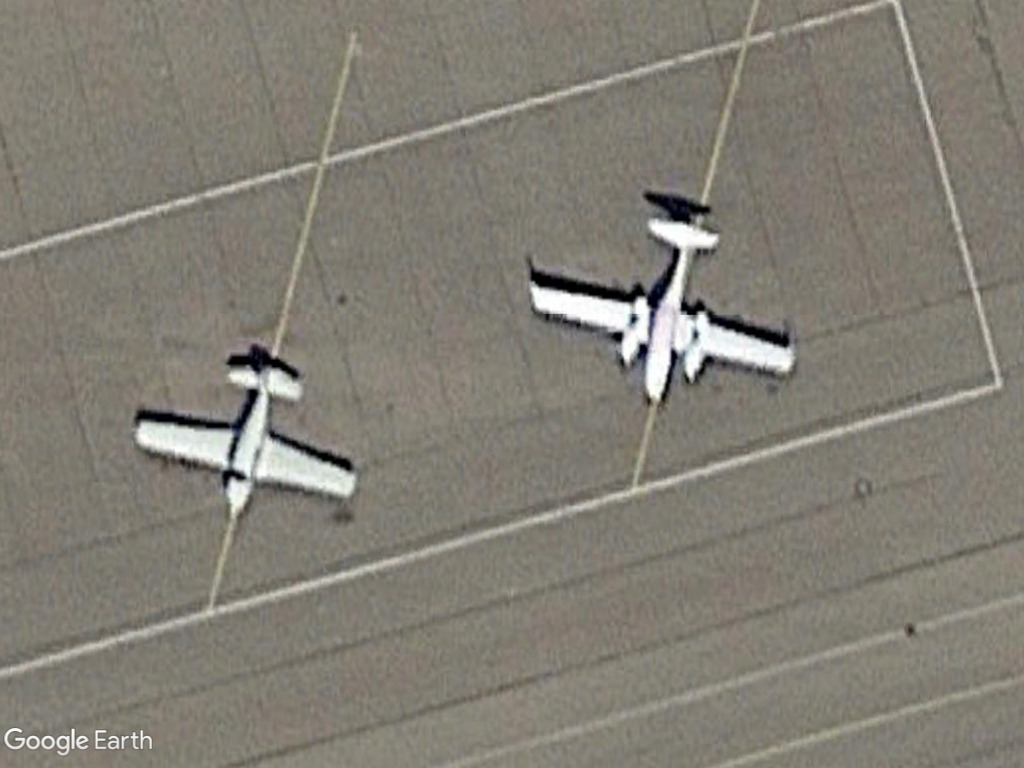propeller: (517, 205, 806, 414)
trainer: (130, 356, 367, 519)
